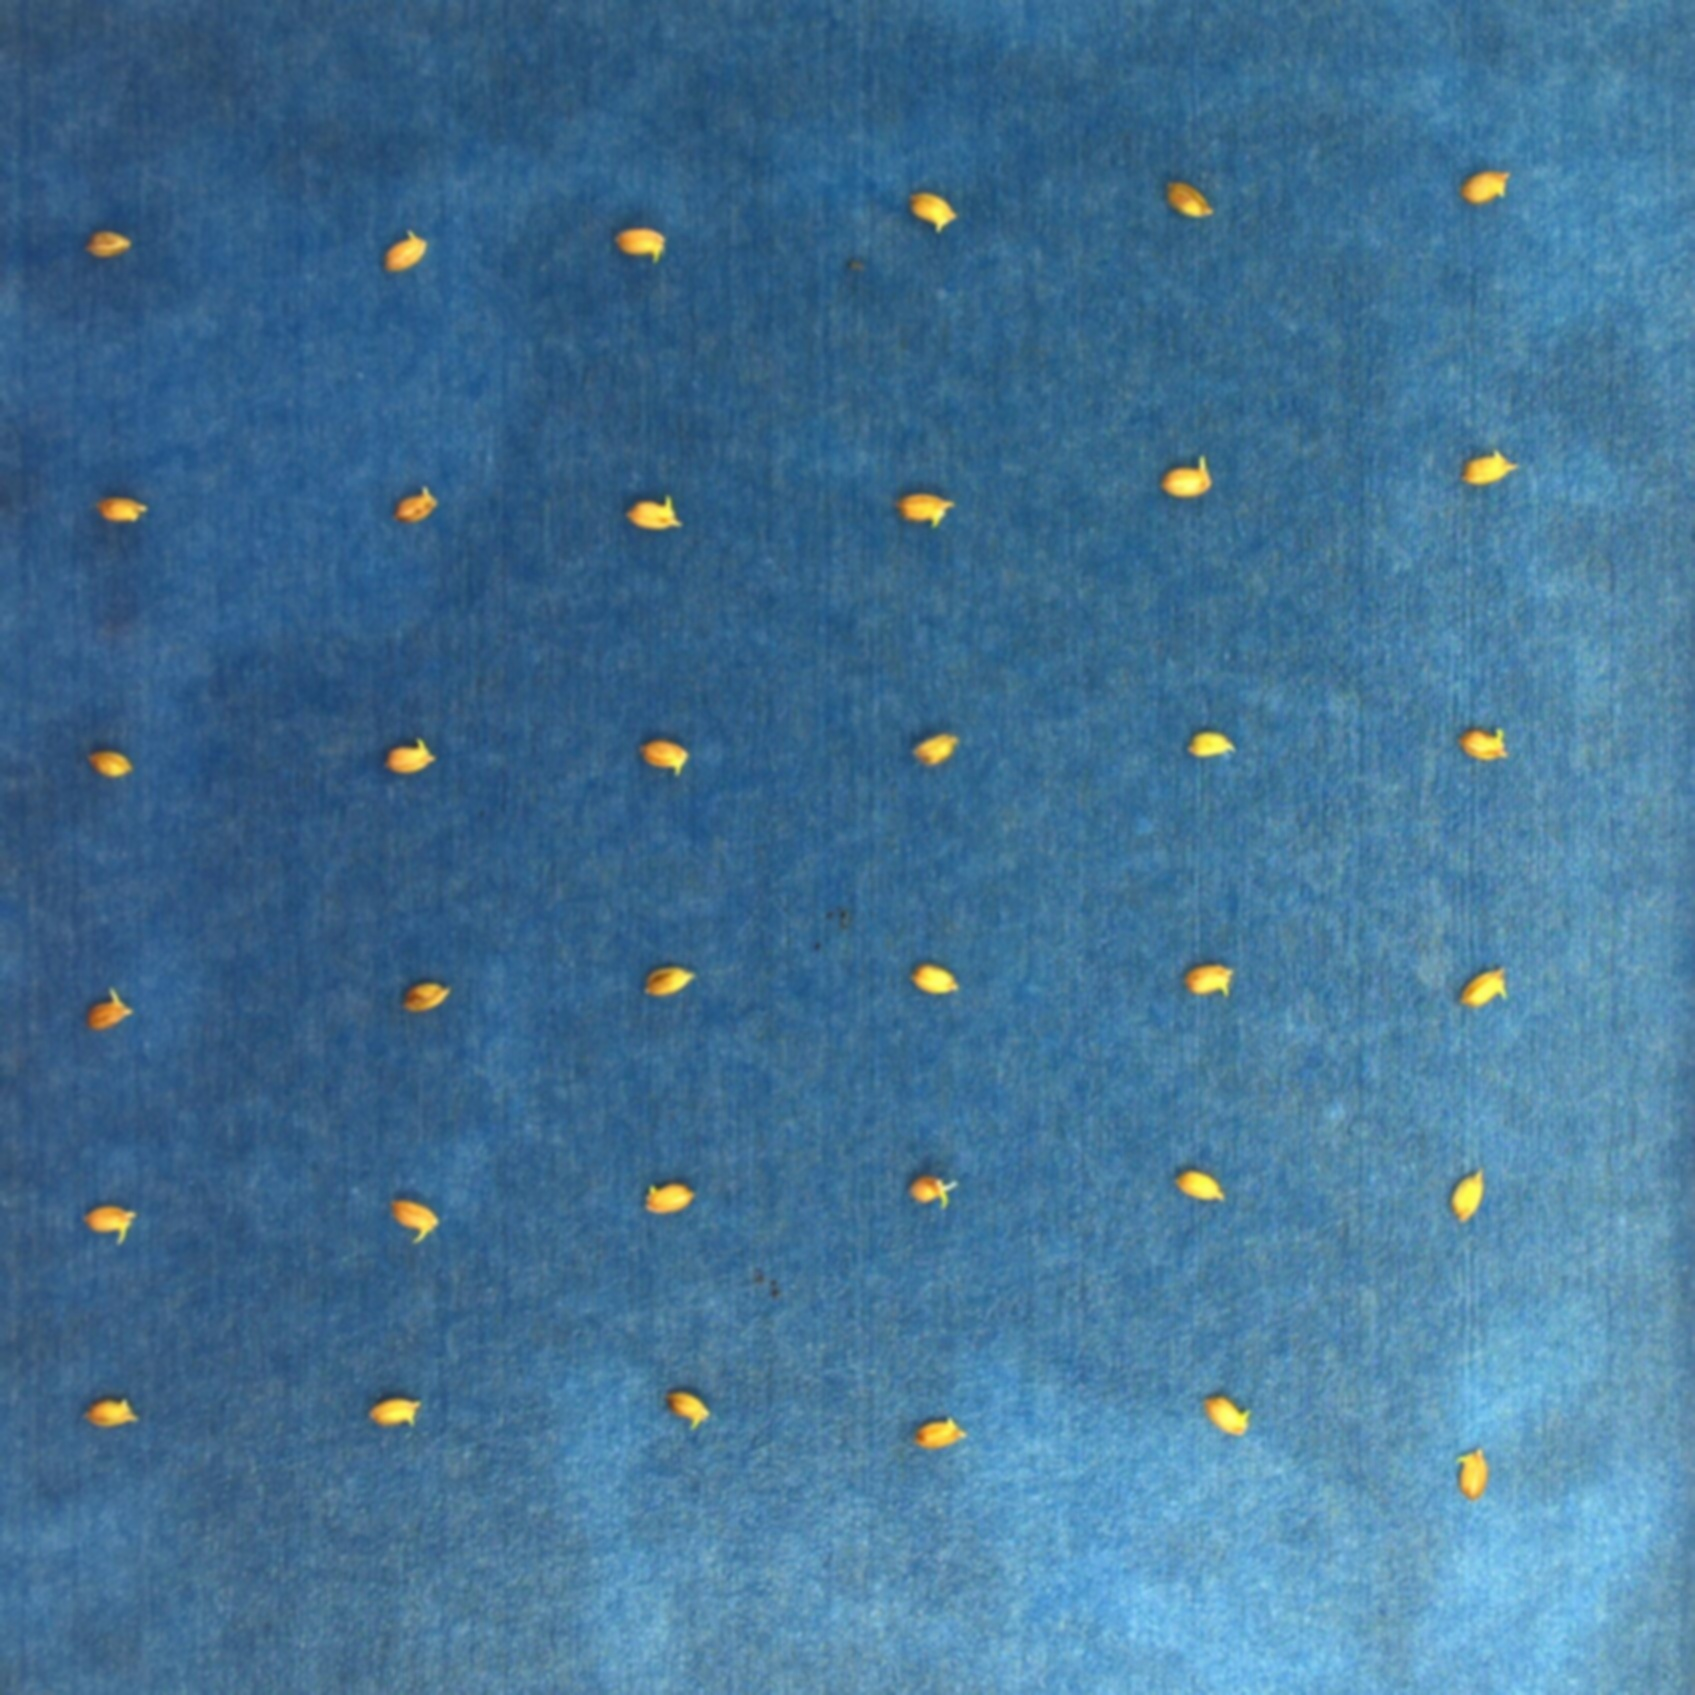not sprout: (896, 486, 955, 532), (388, 1192, 438, 1243), (1164, 171, 1217, 219), (1458, 719, 1510, 765), (661, 1385, 708, 1436), (1203, 1392, 1251, 1440), (379, 737, 433, 778), (1461, 168, 1516, 206), (1158, 455, 1214, 494), (624, 492, 685, 528), (905, 194, 958, 234), (380, 227, 430, 269), (1172, 1167, 1225, 1206), (1462, 452, 1524, 484), (1450, 1444, 1487, 1498), (366, 1395, 422, 1431), (1183, 958, 1236, 995), (1451, 1170, 1487, 1225), (82, 1205, 133, 1242), (1464, 962, 1507, 1006), (608, 227, 671, 256), (394, 983, 453, 1014), (76, 747, 133, 778), (643, 739, 689, 776), (82, 1399, 138, 1430), (906, 1177, 959, 1209), (81, 224, 130, 258), (906, 962, 961, 993), (913, 1419, 969, 1448), (910, 733, 959, 765), (390, 487, 438, 520), (640, 1184, 692, 1214), (85, 990, 130, 1024), (643, 969, 697, 995), (1184, 730, 1232, 757), (95, 498, 151, 520)
